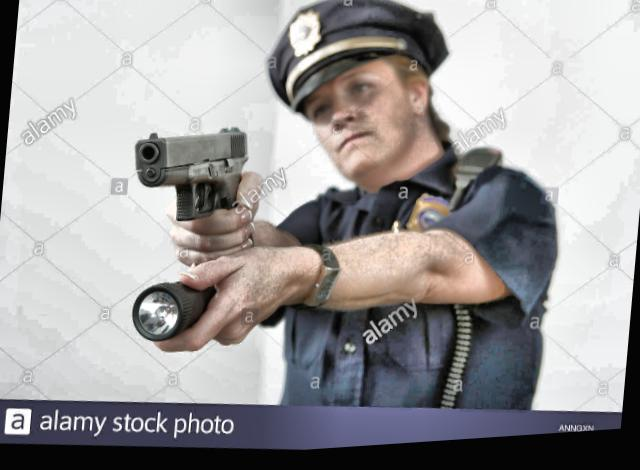pistol: (128, 120, 253, 233)
